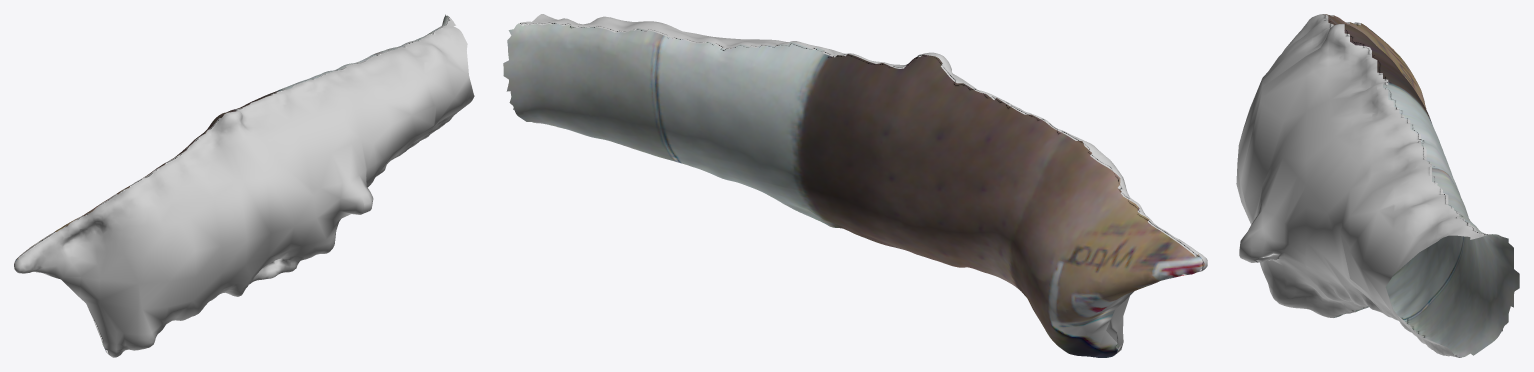
Rendered from meshDefinition_Forearm1.obj.
The picture shows the model from 3 angles, left to right: view 1: azimuth 30°, elevation 25°; view 2: azimuth 150°, elevation 25°; view 3: azimuth 270°, elevation 25°; orthographic projection. The views are drawn at different scales.
Bounding box in the file's own units: 0.3425 × 0.1398 × 0.114.
